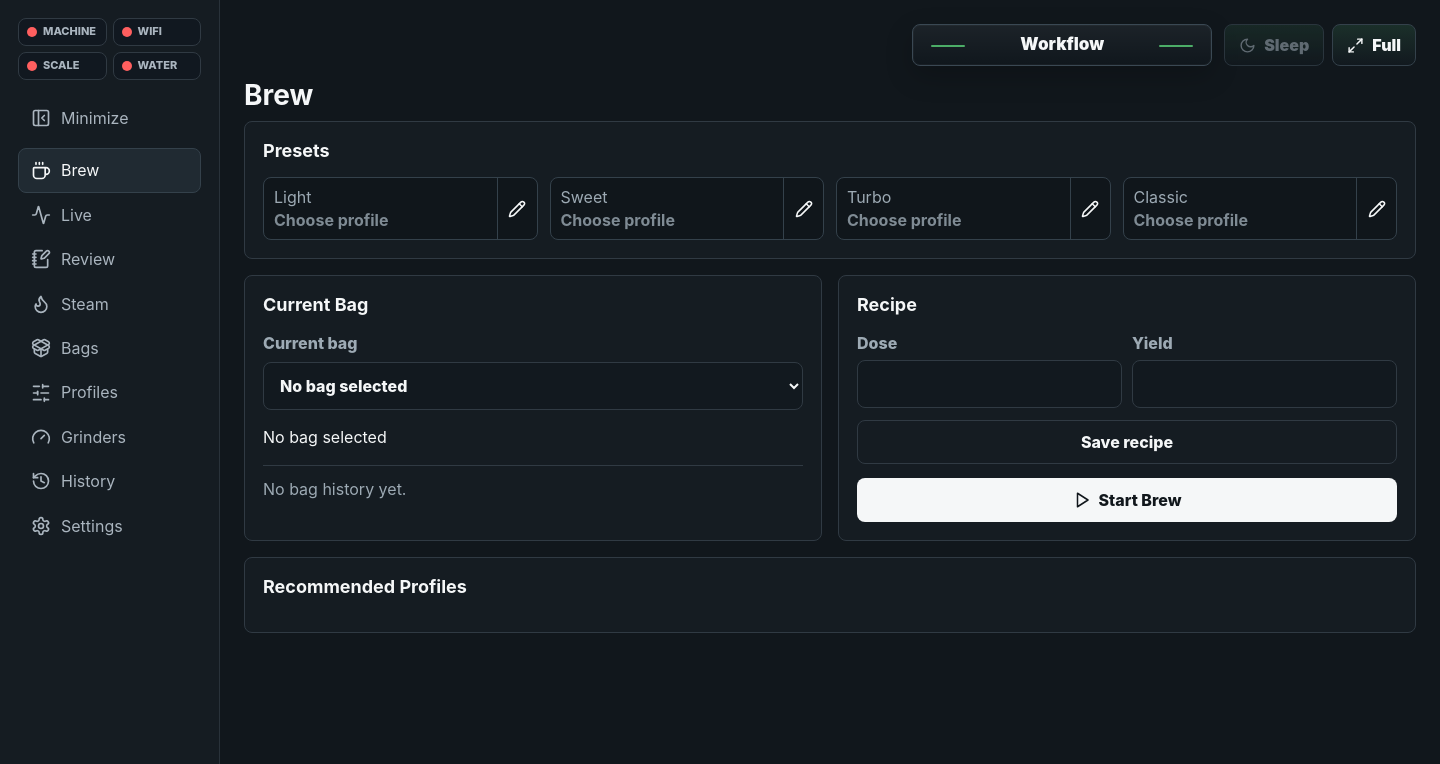
Scenario: ReviewPage › imports an R2 TDS reading from the native sensor endpoint
The width and height of the screenshot is (1440, 764).
Click the button "Review" at (110, 259), box 18,237 -> 201,282
(page scrolled)
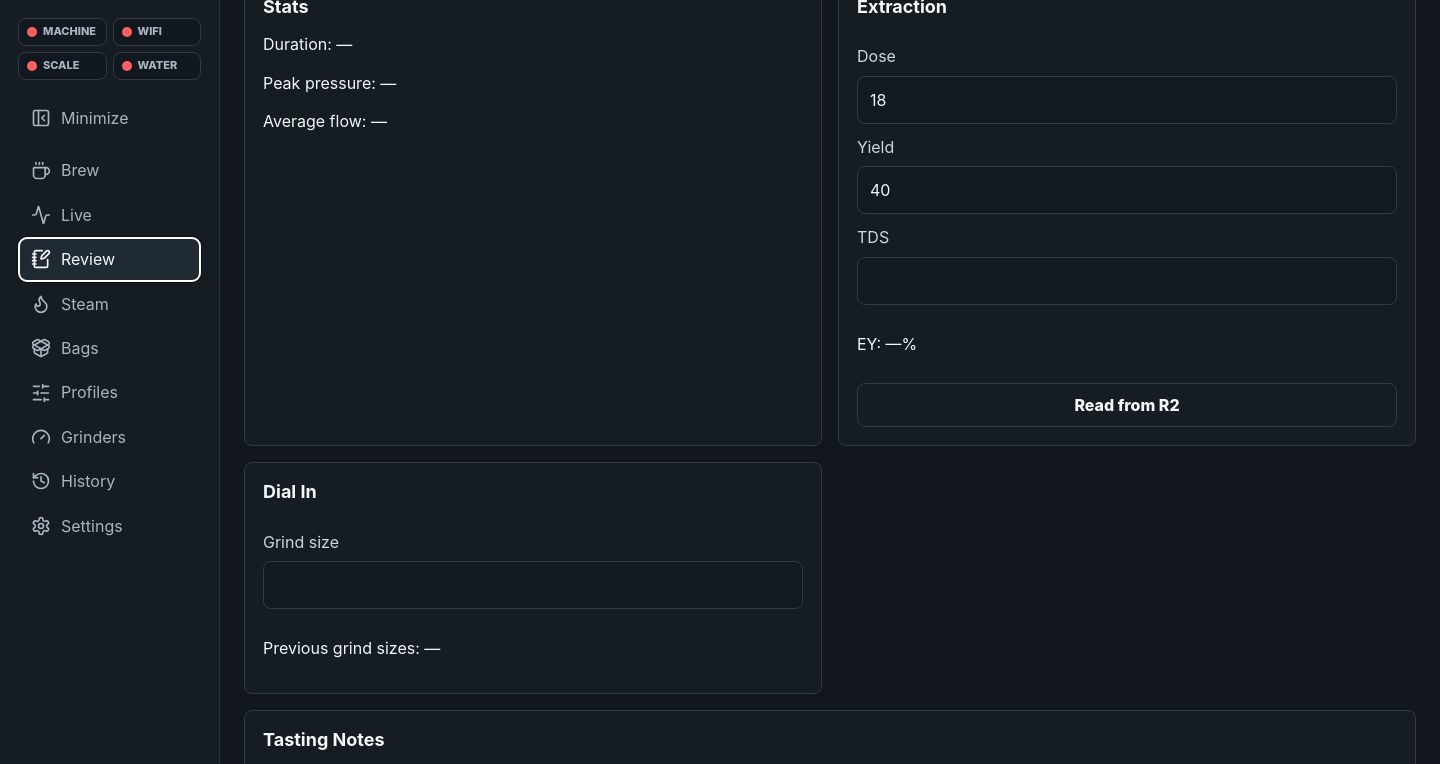
Click the button "Read from R2" at (1127, 405), box 857,383 -> 1397,427
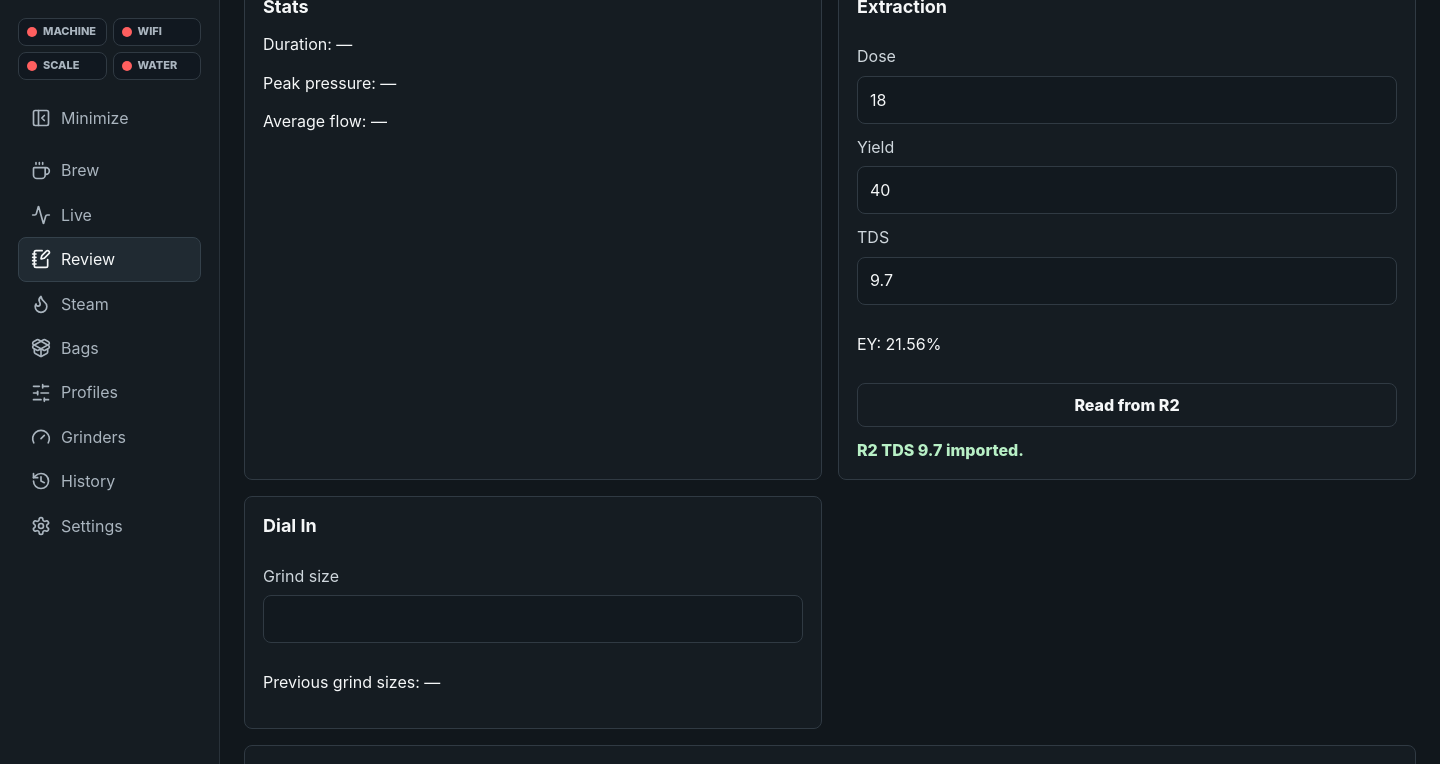
Expected: the field labelled "TDS" holds "9.7", 857,257 -> 1397,305
